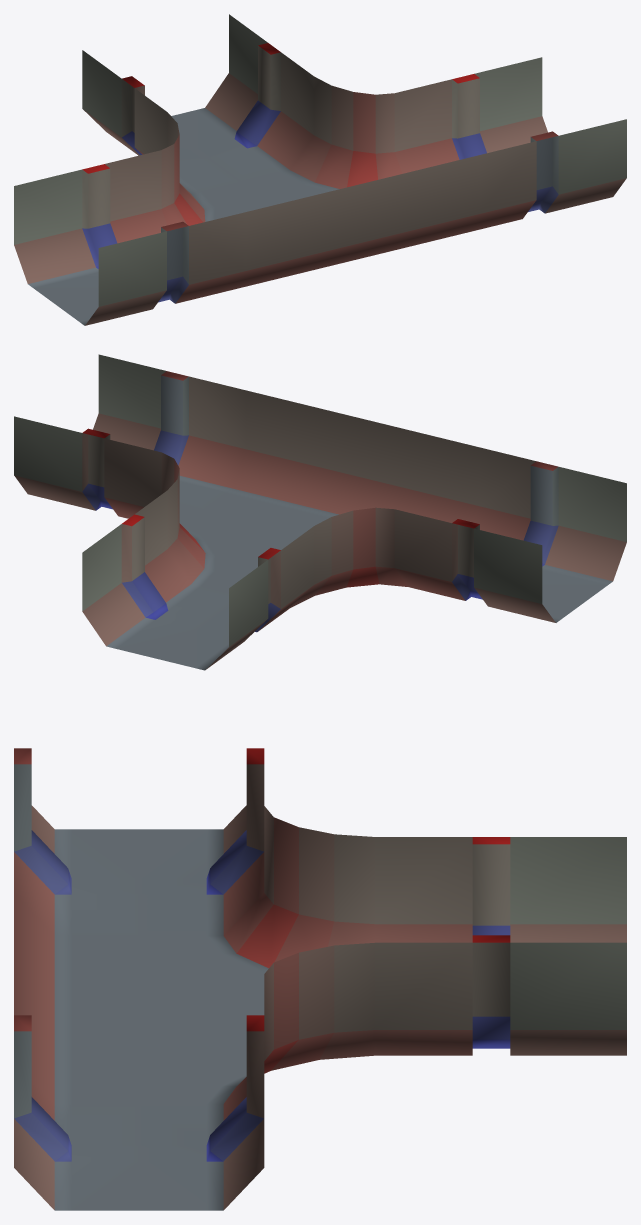
The model's file is Straight_T-Section_01.fbx.
3 renders of one model, top to bottom at view 1: azimuth 30°, elevation 25°; view 2: azimuth 150°, elevation 25°; view 3: azimuth 270°, elevation 25°, orthographic. The views are drawn at different scales.
Parts seen in each view (by area): view 1: Mesh; view 2: Mesh; view 3: Mesh.
Boxes of the visible parts, x1,y1,x2,y2 form: Mesh: (14, 14, 626, 325); Mesh: (14, 354, 626, 670); Mesh: (14, 748, 626, 1210).
Bounding box in the file's own units: 3330 × 530 × 2262.
